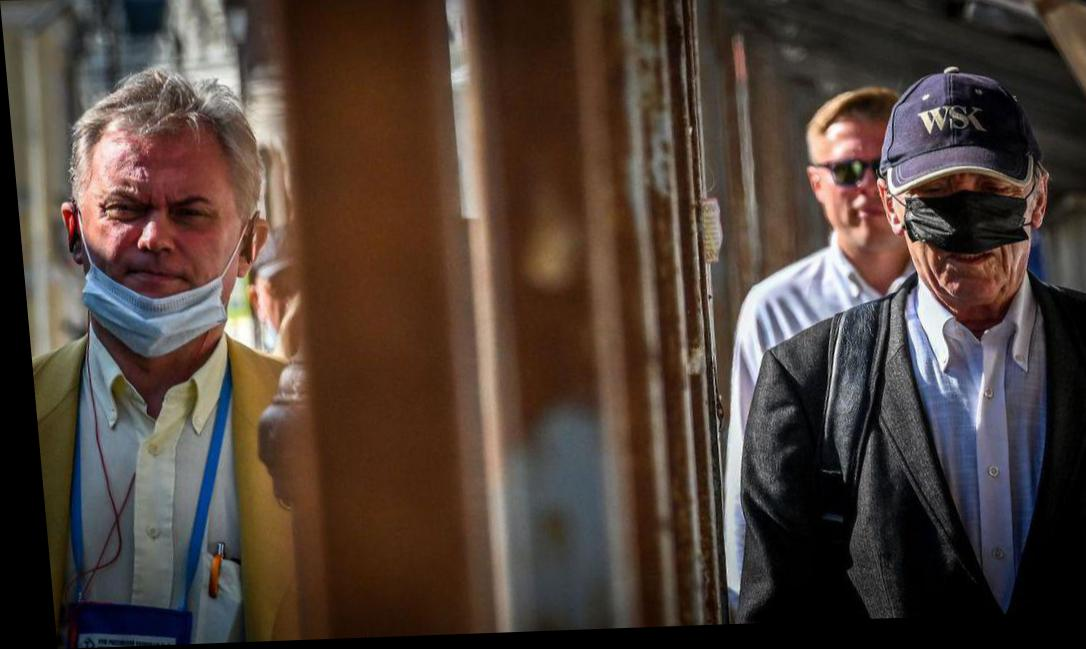NONE: (808, 137, 907, 262)
WRONG: (73, 156, 243, 351), (901, 173, 1033, 308)
